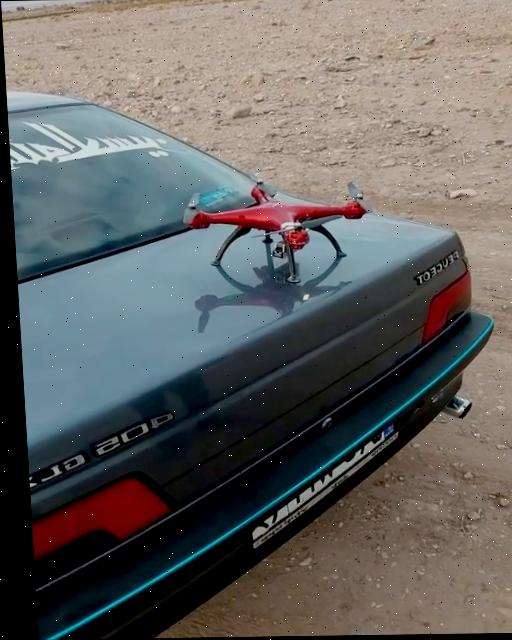drone: (179, 167, 376, 285)
